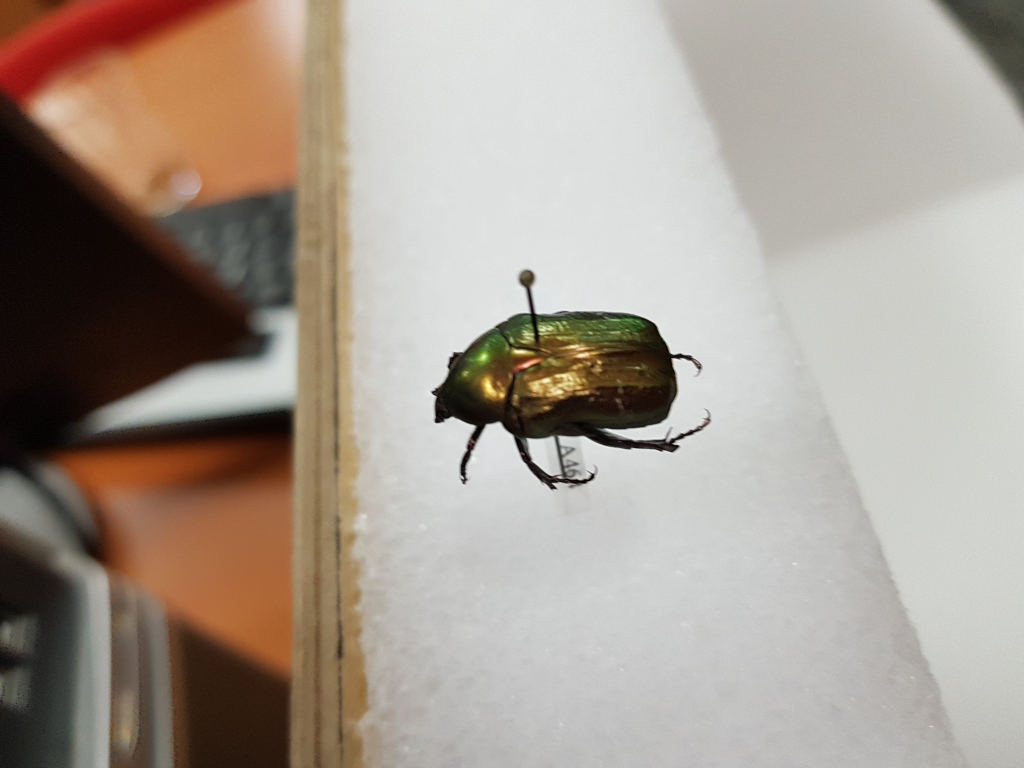Cetonia_kemali: (423, 294, 714, 490)
